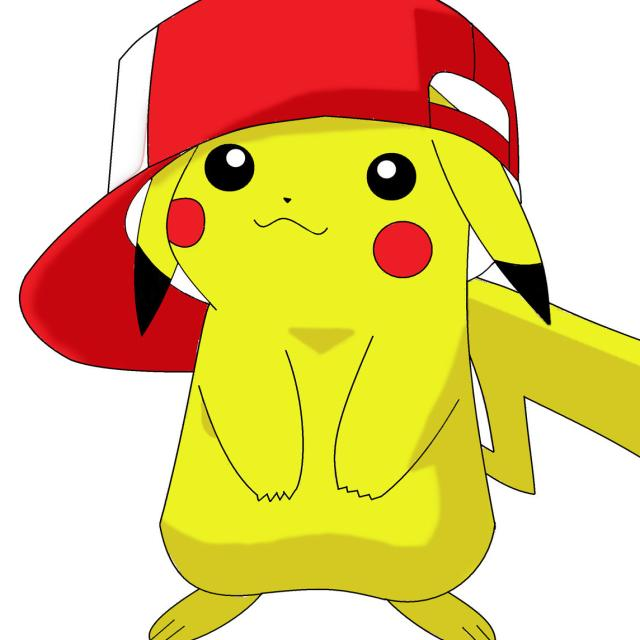Pikachu: (158, 118, 500, 596)
